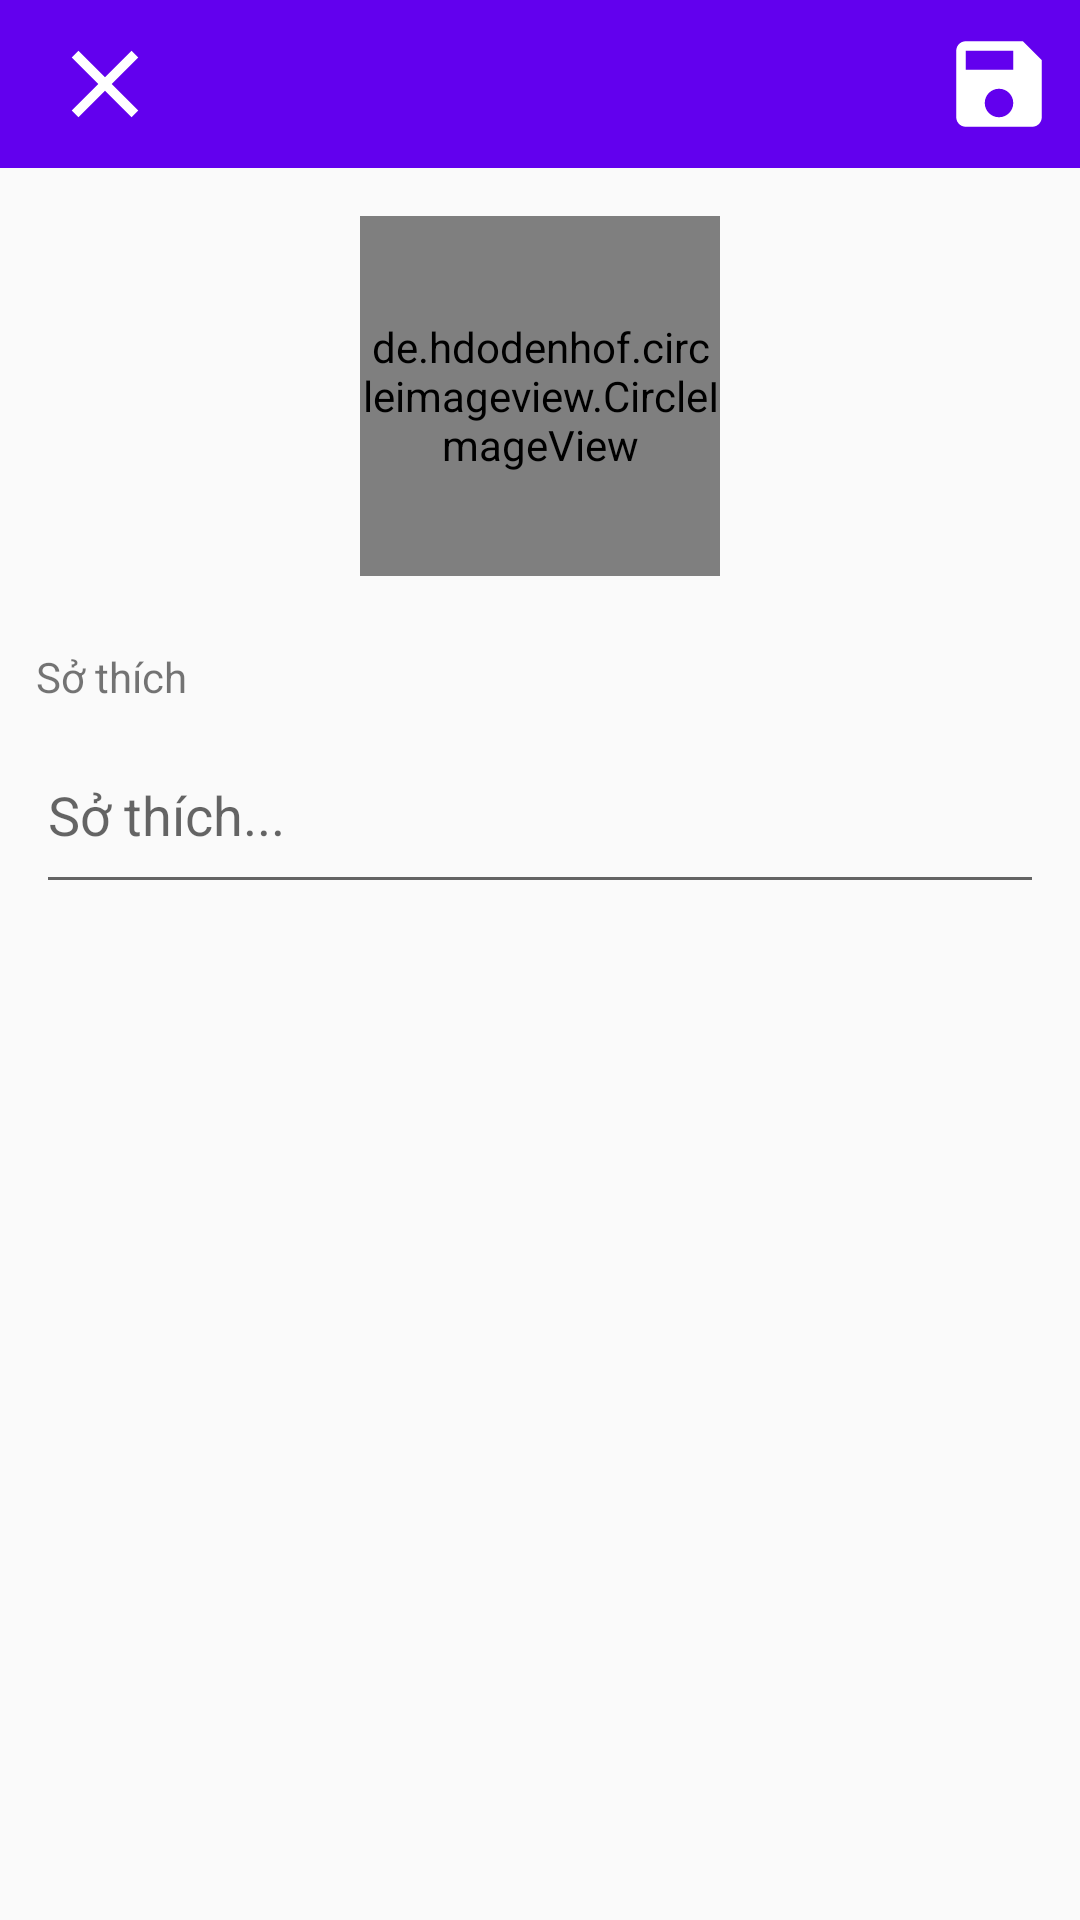

Named icons in this screenshot (1080px×1920px) and their centers, point (x, y):
close: point (105, 84)
save: point (999, 84)
